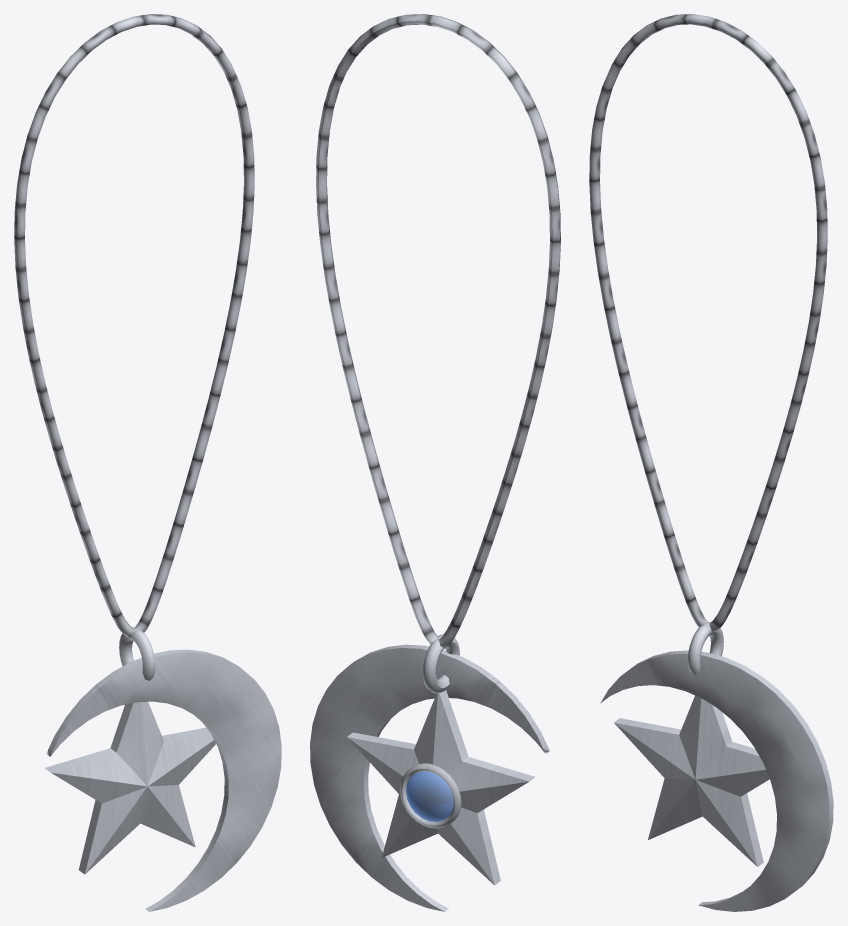
Rendered from MoonstoneStarAmulet.glb.
3 renders of one model, left to right at view 1: azimuth 30°, elevation 25°; view 2: azimuth 150°, elevation 25°; view 3: azimuth 330°, elevation 25°, orthographic. The views are drawn at different scales.
Visible parts, largest first — view 1: MoonstoneStarAmulet; view 2: MoonstoneStarAmulet; view 3: MoonstoneStarAmulet.
Boxes of the visible parts, left/top/right/bottom form: MoonstoneStarAmulet: left=14, top=14, right=281, bottom=911; MoonstoneStarAmulet: left=310, top=14, right=560, bottom=911; MoonstoneStarAmulet: left=589, top=14, right=833, bottom=911.
Size of the model in its own units: 0.5657 by 1.89 by 0.123.
1 material, 1 textured.
